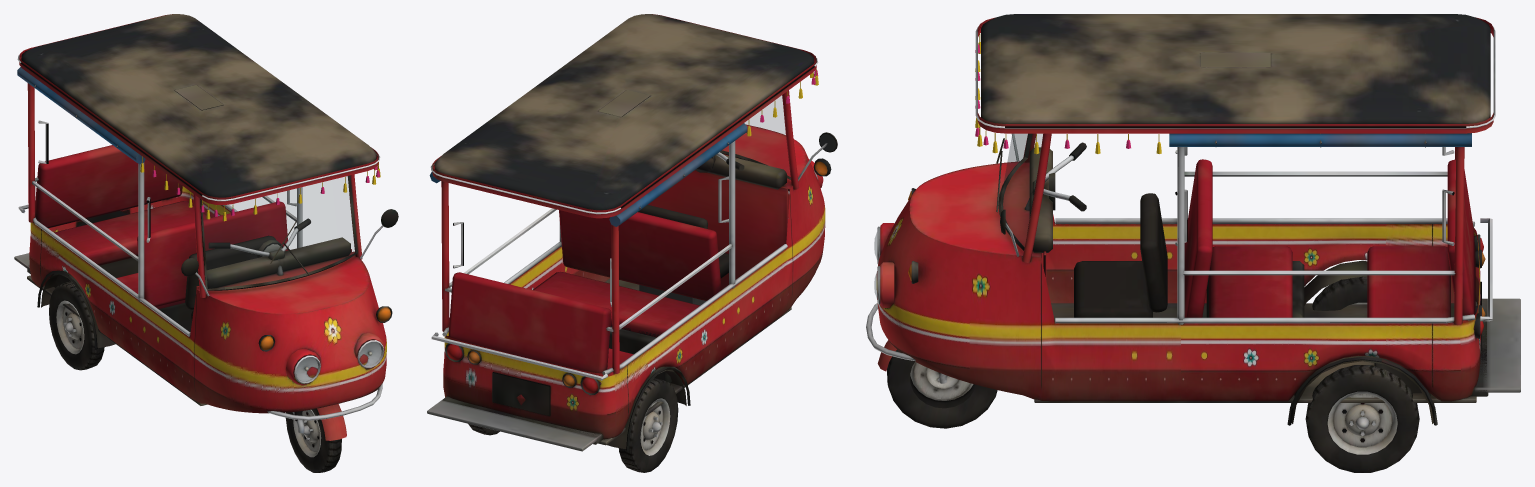
Rendered from easybike.glb.
3 views of the same model, side by side, from view 1: azimuth 30°, elevation 25°; view 2: azimuth 150°, elevation 25°; view 3: azimuth 270°, elevation 25° (orthographic). The views are drawn at different scales.
Visible parts, largest first — view 1: body, glass, wheel_RR, wheel_F, steer; view 2: body, wheel_RR, glass; view 3: body, wheel_RL, wheel_F, glass, wheel_RR, steer.
Boxes of the visible parts, x1,y1,x2,y2 form: body: [14, 14, 398, 420]; glass: [203, 176, 381, 380]; wheel_RR: [49, 281, 104, 370]; wheel_F: [285, 408, 341, 472]; steer: [208, 218, 346, 440]; body: [427, 14, 837, 451]; wheel_RR: [618, 378, 678, 472]; glass: [722, 96, 789, 176]; body: [866, 14, 1520, 425]; wheel_RL: [1305, 365, 1419, 472]; wheel_F: [887, 349, 997, 428]; glass: [874, 134, 1042, 297]; wheel_RR: [1312, 276, 1367, 310]; steer: [877, 142, 1086, 383].
Bounding box in the file's own units: 1.37 × 1.73 × 2.81.
Materials: 2 (1 with a texture image).
